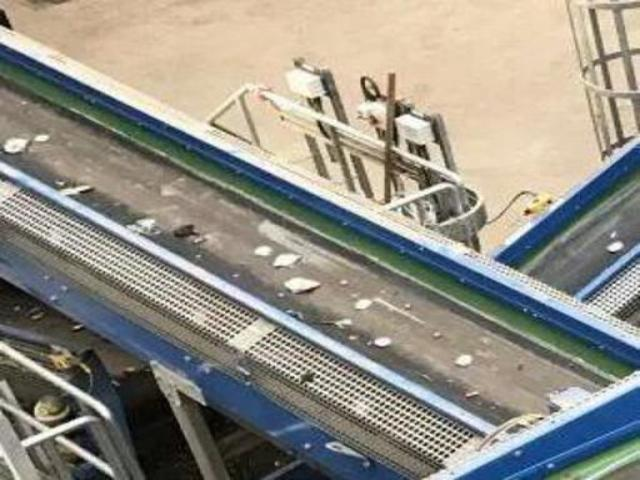conveyor: (0, 29, 615, 473)
